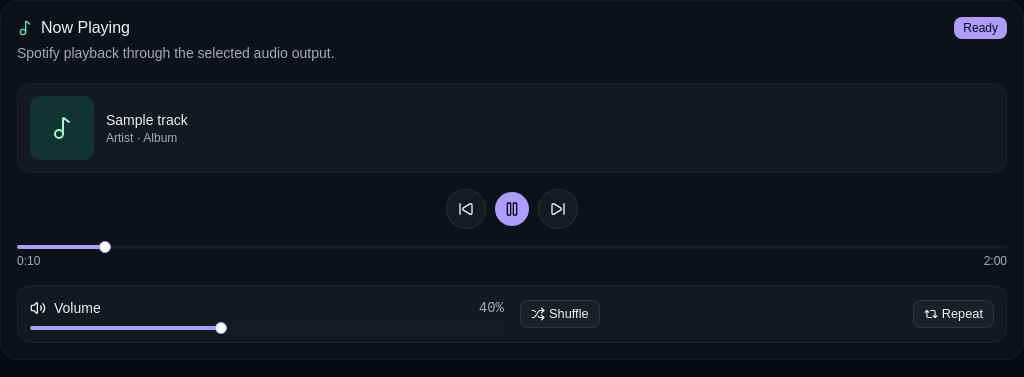
SpotifyControls shared status › keeps a confirmed playback command when an older poll resolves afterward
Click the button named "Pause Spotify" at (512, 209), box [494,191,530,227]
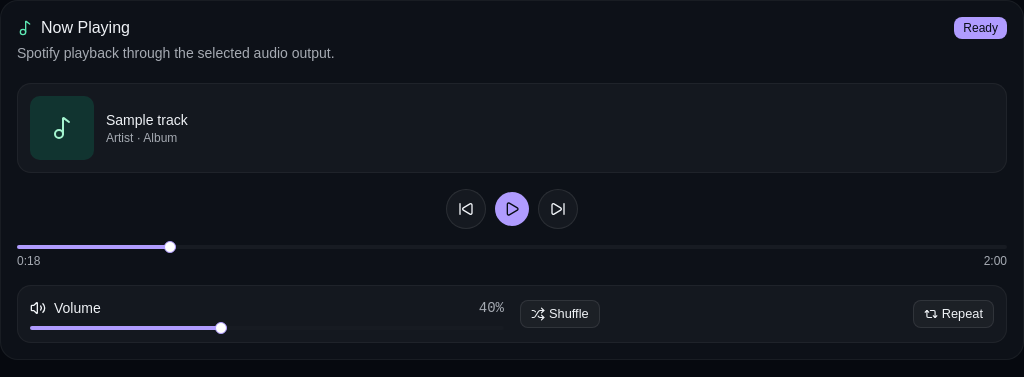
expect the button named "Play Spotify" is shown: met, box [494,191,530,227]
